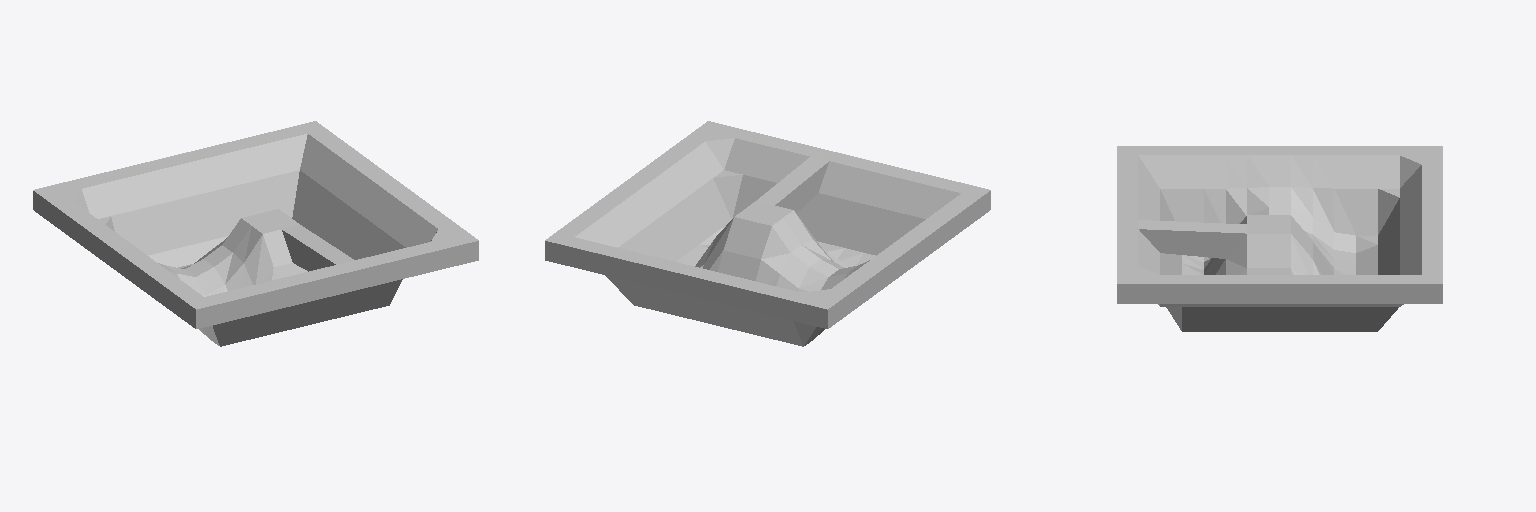
File: RaceTerrain.obj
The picture shows the model from 3 angles: view 1: azimuth 30°, elevation 25°; view 2: azimuth 150°, elevation 25°; view 3: azimuth 270°, elevation 25°; orthographic projection.
Visible parts, largest first — view 1: Box001; view 2: Box001; view 3: Box001.
Boxes of the visible parts, x1=… form: Box001: x1=33, y1=121, x2=478, y2=346; Box001: x1=545, y1=121, x2=990, y2=346; Box001: x1=1117, y1=146, x2=1442, y2=331.
Size of the model in its own units: 157 by 43.25 by 157.